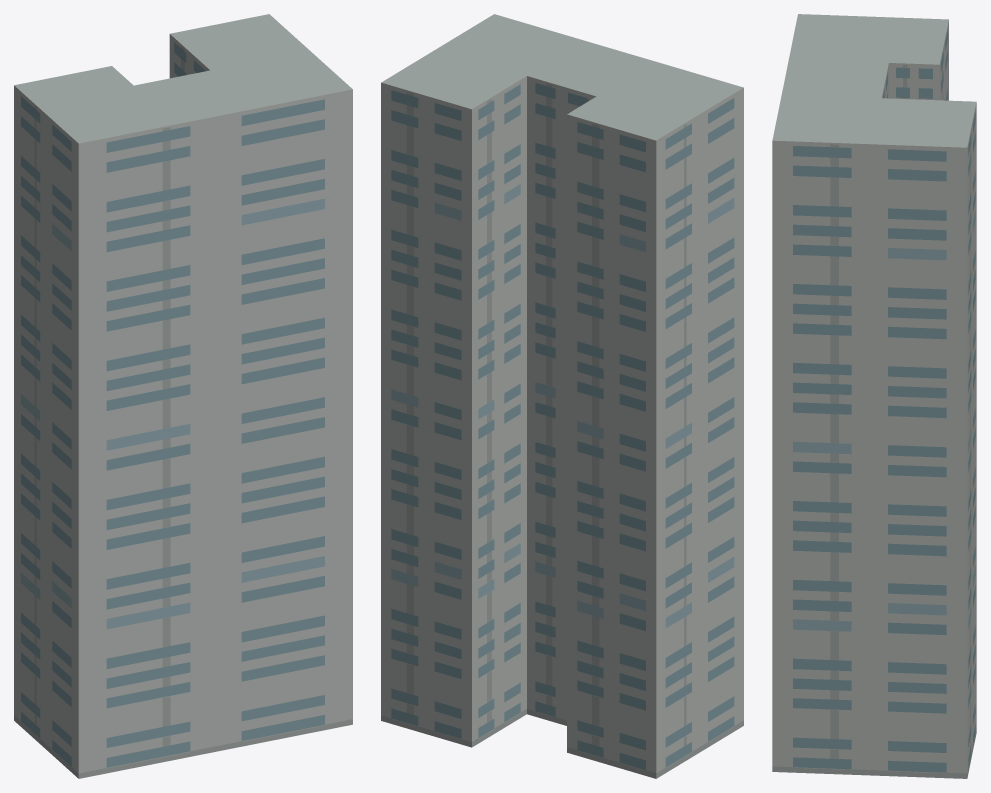
File: residential-2d68d1a3-1421-402e-bfd2-ce1c63286afe.glb
3 views of the same model, side by side, from view 1: azimuth 30°, elevation 25°; view 2: azimuth 150°, elevation 25°; view 3: azimuth 270°, elevation 25° (orthographic).
Visible parts, largest first — view 1: residential-2d68d1a3-1421-402e-bfd2-ce1c63286afe.tmp; view 2: residential-2d68d1a3-1421-402e-bfd2-ce1c63286afe.tmp; view 3: residential-2d68d1a3-1421-402e-bfd2-ce1c63286afe.tmp.
Part boxes in pixels (x1,y1,x2,y2): residential-2d68d1a3-1421-402e-bfd2-ce1c63286afe.tmp: [14, 14, 352, 778]; residential-2d68d1a3-1421-402e-bfd2-ce1c63286afe.tmp: [381, 14, 743, 778]; residential-2d68d1a3-1421-402e-bfd2-ce1c63286afe.tmp: [772, 14, 976, 778].
Bounding box in the file's own units: 43.17 × 95 × 27.86.
